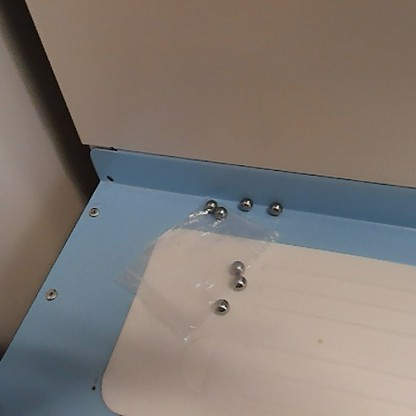ironball: (212, 295, 234, 317), (227, 273, 248, 294), (266, 198, 283, 217), (238, 194, 254, 212), (228, 258, 245, 274), (213, 205, 228, 221), (203, 197, 218, 212)
